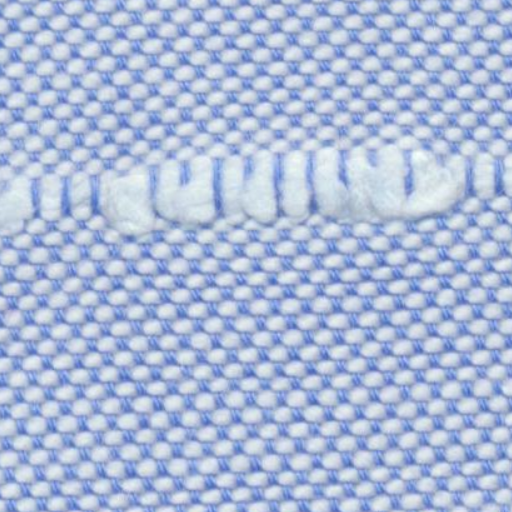DaiSha: (12, 135, 497, 256)
